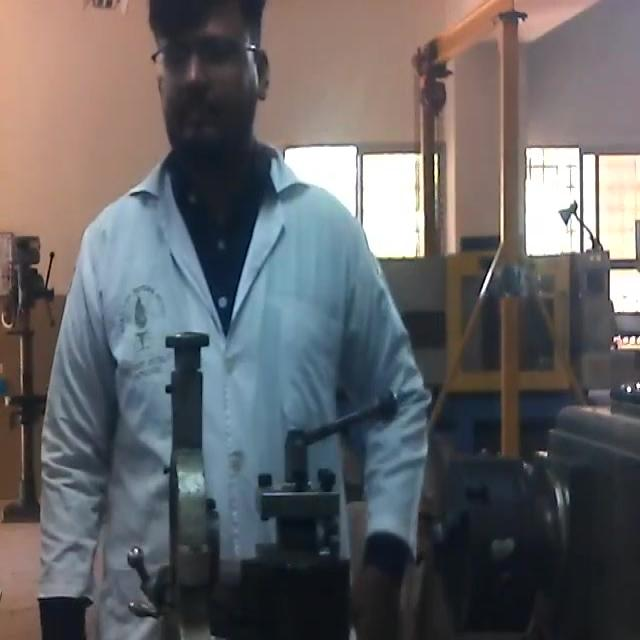googles: (149, 34, 250, 84)
labcoat: (40, 137, 430, 640)
